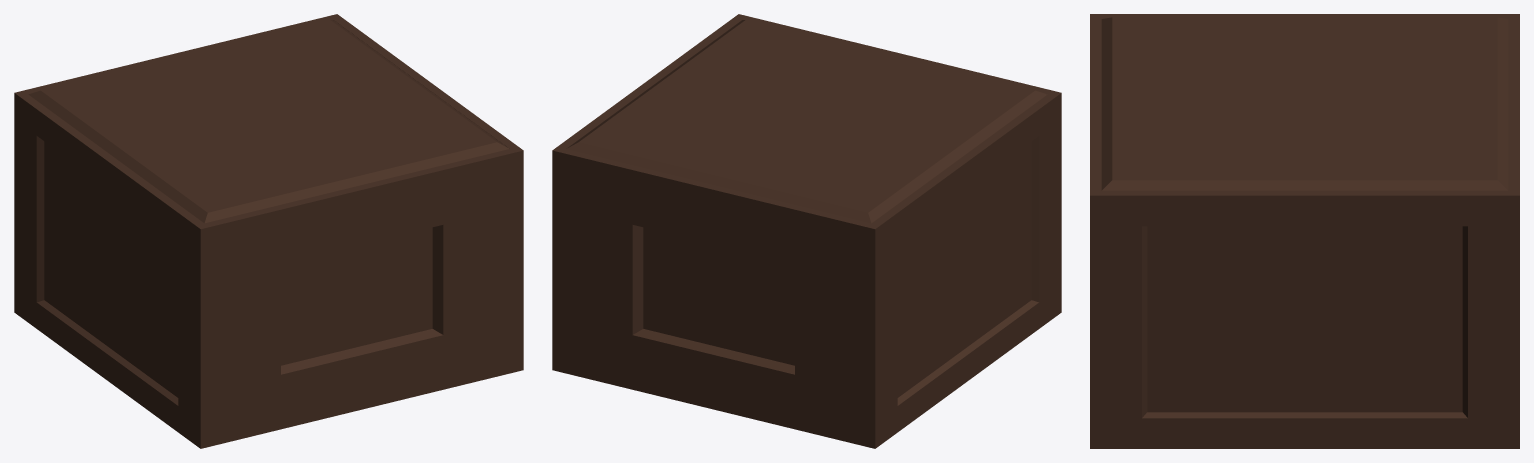
Rendered from ScrewBox.fbx.
3 views of the same model, side by side, from view 1: azimuth 30°, elevation 25°; view 2: azimuth 150°, elevation 25°; view 3: azimuth 270°, elevation 25° (orthographic). The views are drawn at different scales.
Parts seen in each view (by area): view 1: Box; view 2: Box; view 3: Box.
Boxes of the visible parts, bbox=[...] form: Box: bbox=[14, 14, 523, 448]; Box: bbox=[552, 14, 1061, 448]; Box: bbox=[1090, 14, 1519, 448].
Bounding box in the file's own units: 200 × 139 × 200.
